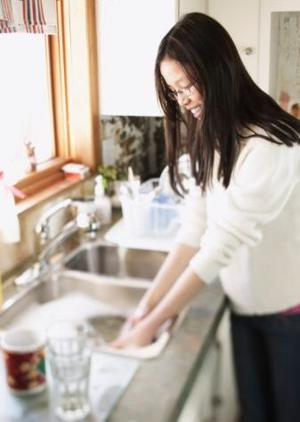person: (111, 12, 300, 422)
